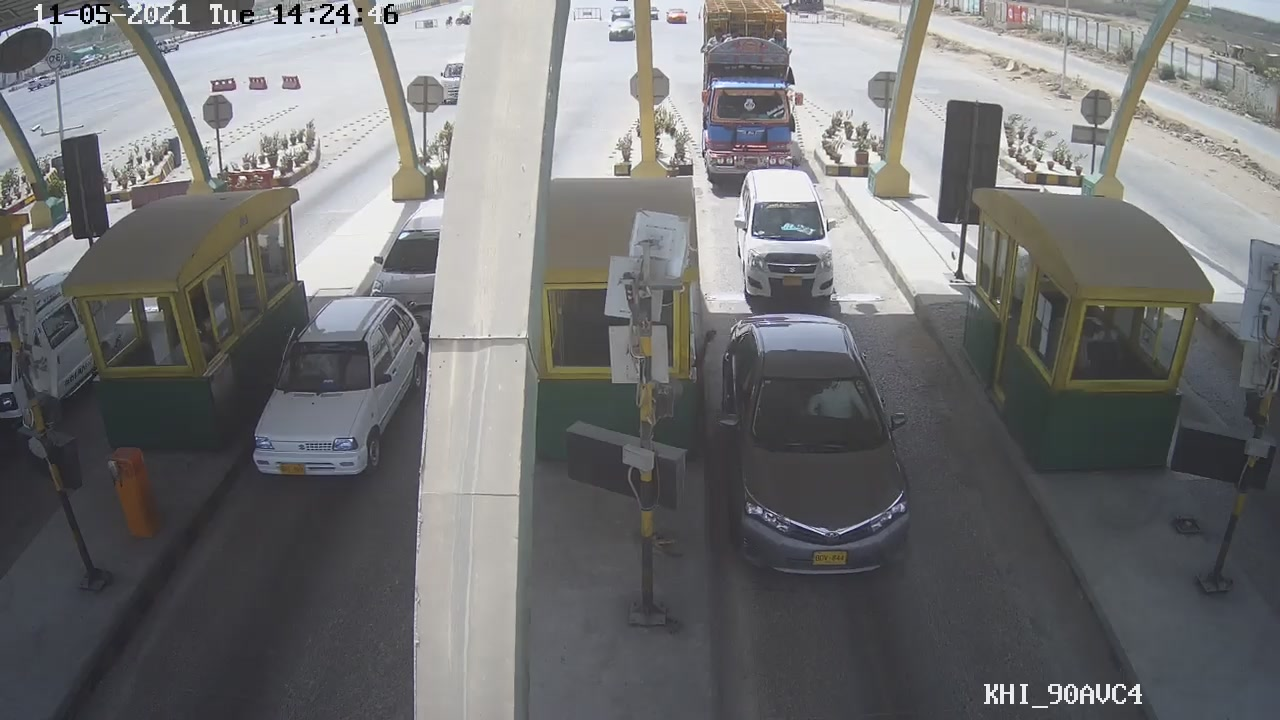F1: (717, 309, 910, 585), (732, 164, 852, 310)
